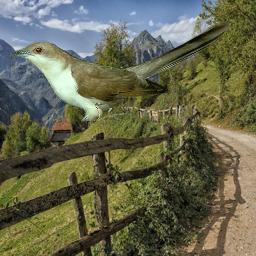Cuckoo: (10, 20, 231, 121)
